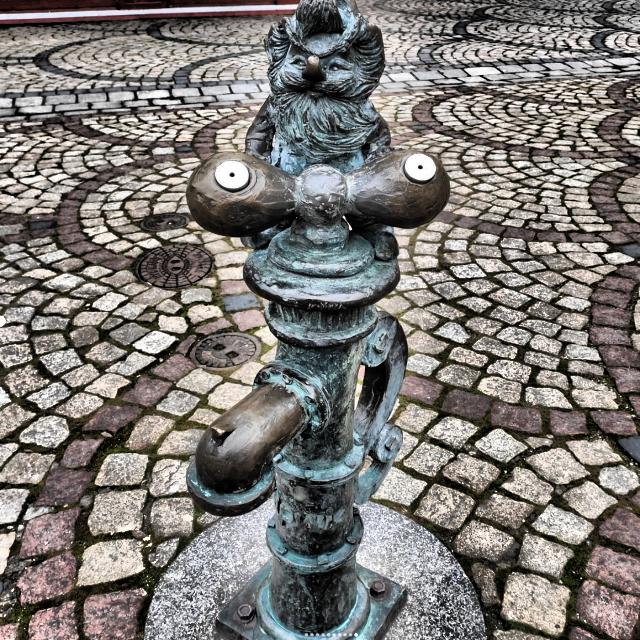Orzezwiacz: (187, 0, 452, 640)
